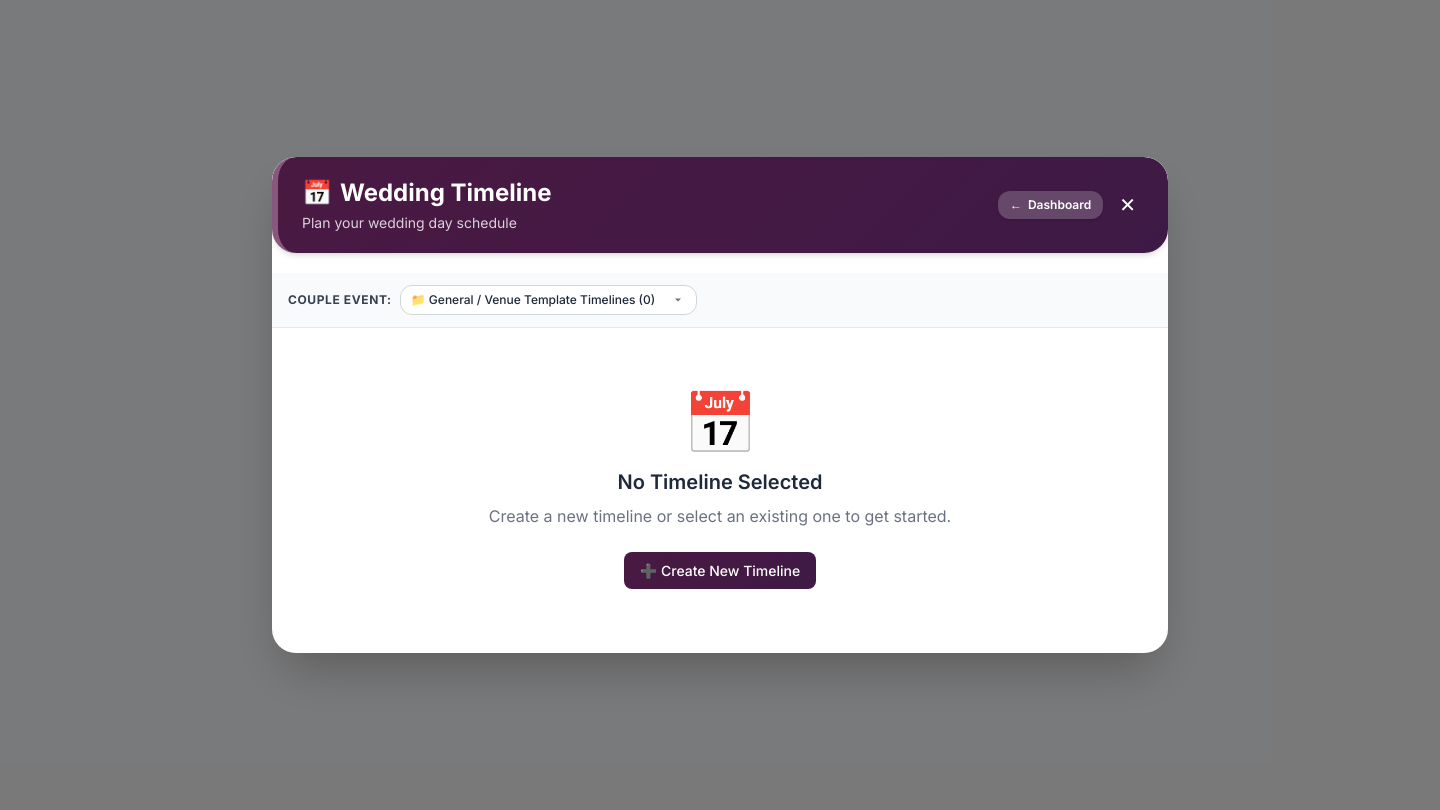
Test: TimelinePanel (Venue Portal <-> Couples Portal Integration) › displays "Day of Coordination Not Booked" banner in read-only preview mode when coordination is not booked
Select "🔒 Smith & Jones (2026-09-19)" in the dropdown labelled "Couple Event:": (548, 300) [400,285,697,315]
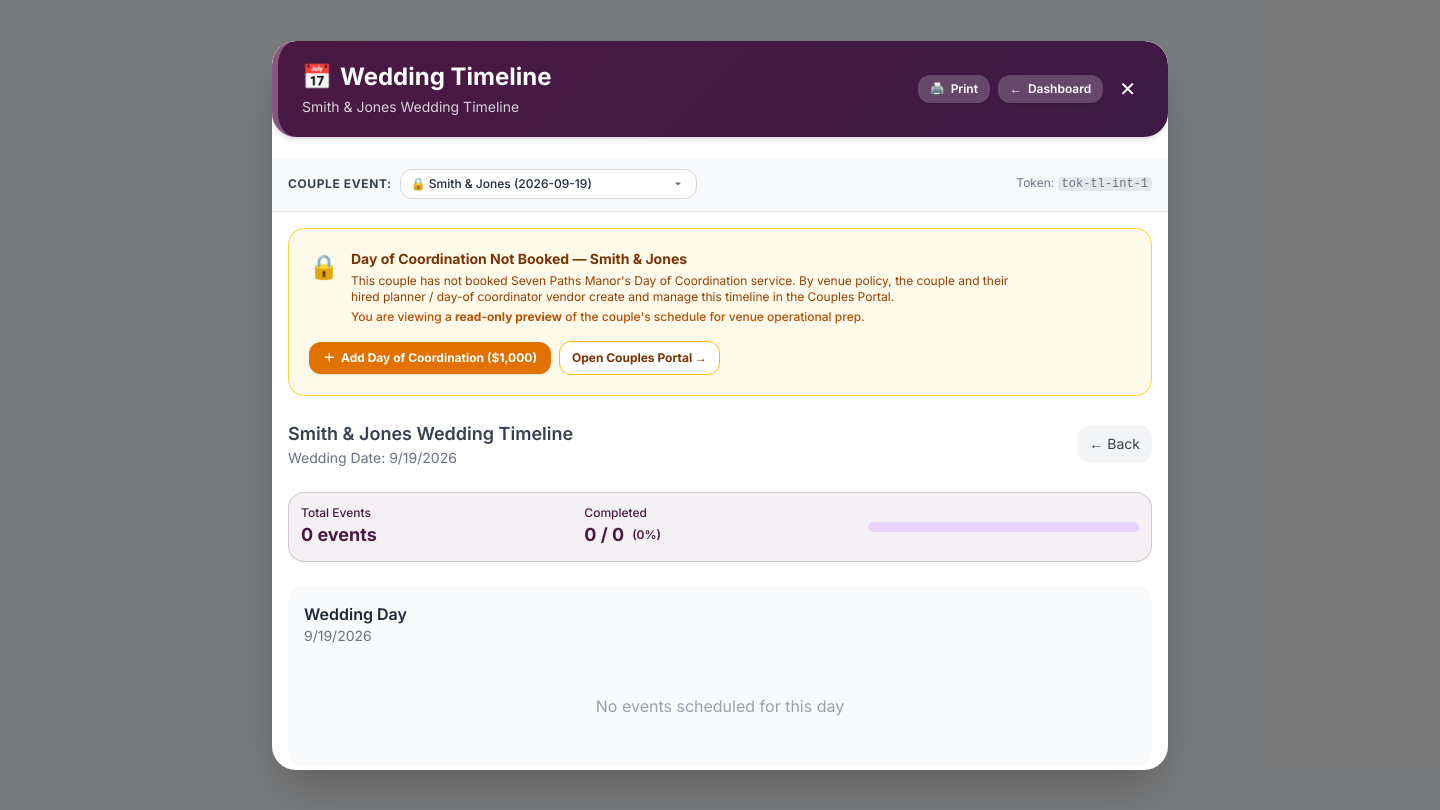
Expected: the text "Day of Coordination Not Booked — Smith & Jones" is shown, [351,250,687,266]
Expected: the text "read-only preview" is shown, [455,308,562,324]
